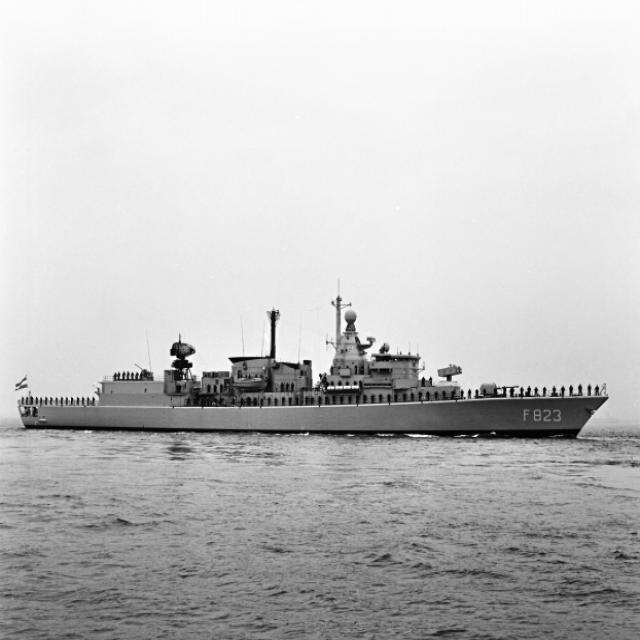Fragata: (7, 277, 615, 446)
